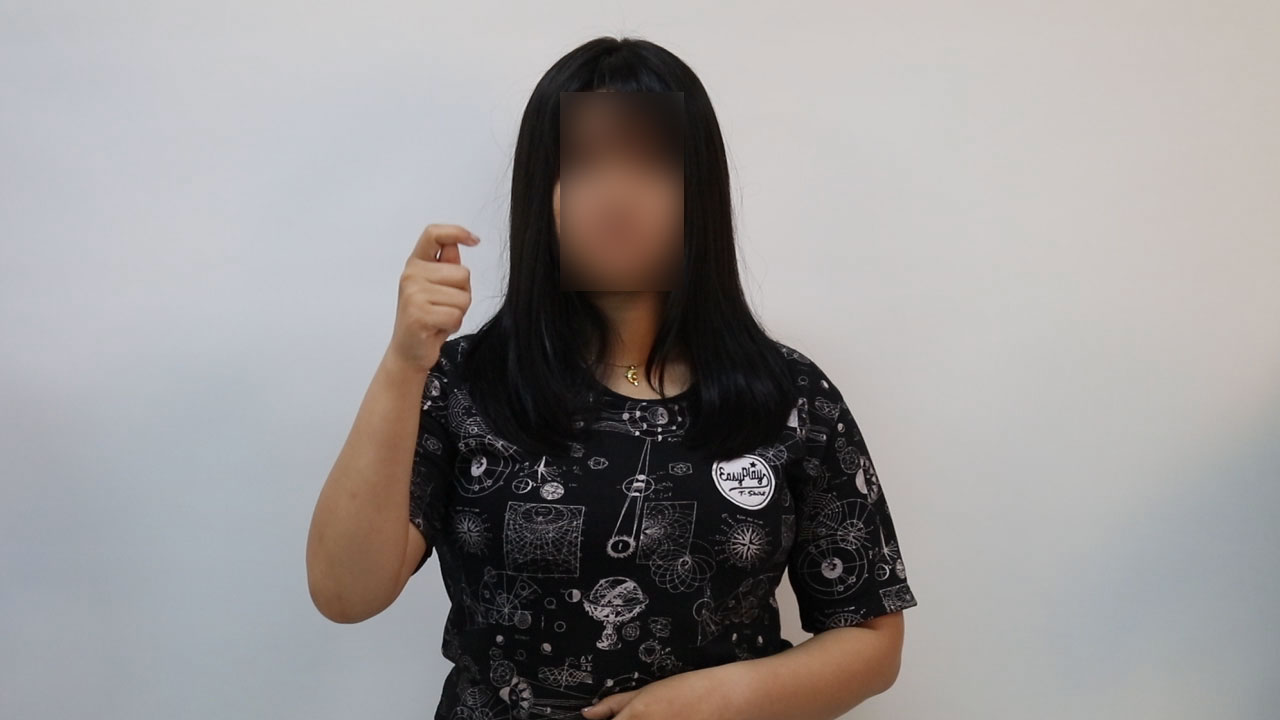or: (376, 218, 487, 381)
